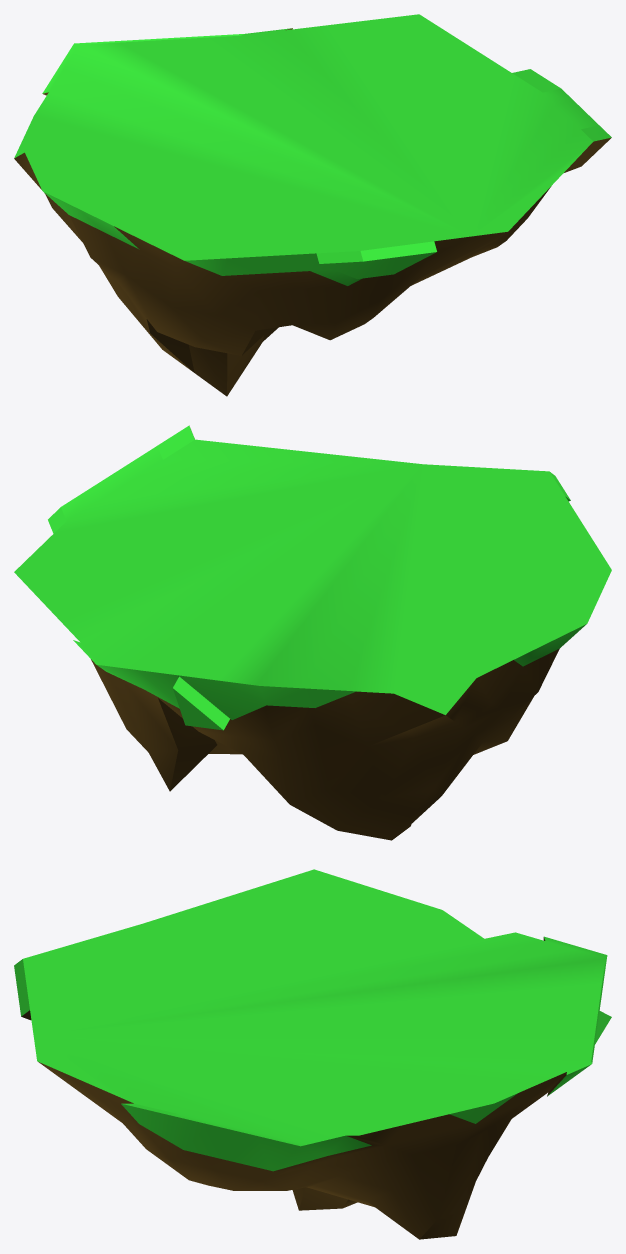
File: cowplace.fbx
3 views of the same model, one above another, from view 1: azimuth 30°, elevation 25°; view 2: azimuth 150°, elevation 25°; view 3: azimuth 270°, elevation 25° (orthographic). The views are drawn at different scales.
Parts seen in each view (by area): view 1: Icosphere; view 2: Icosphere; view 3: Icosphere.
Boxes of the visible parts, x1,y1,x2,y2 form: Icosphere: (14,14,611,396); Icosphere: (14,425,611,840); Icosphere: (14,869,611,1239).
Size of the model in its own units: 179 by 83.1 by 175.
